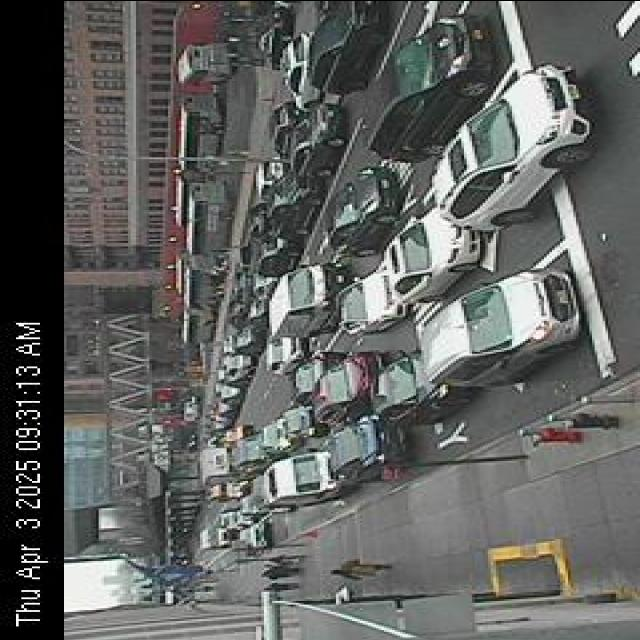parkedCars: (228, 111, 344, 212), (195, 234, 264, 390)
